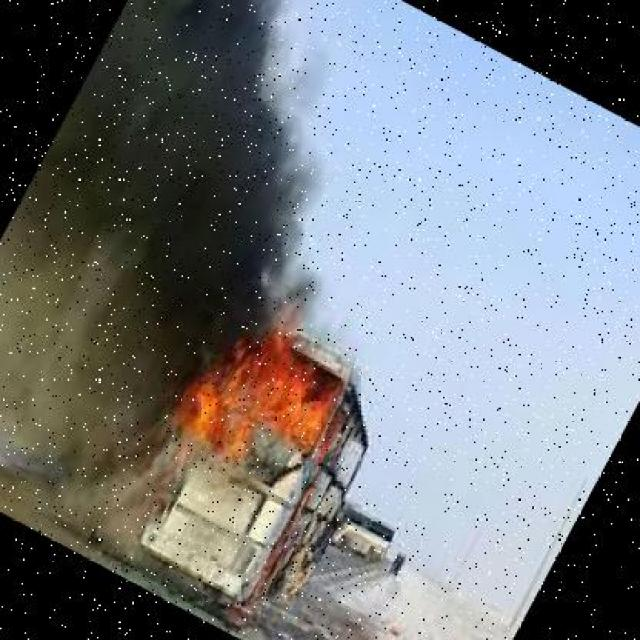fire: (156, 284, 372, 498)
